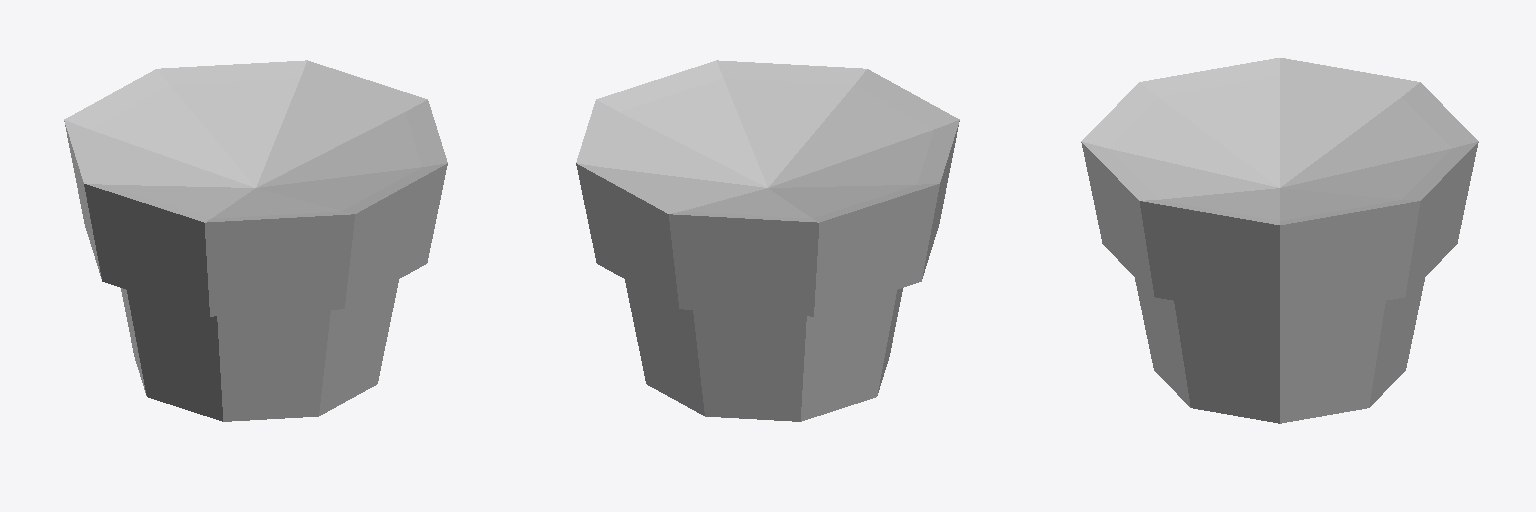
The model's file is Pot.obj.
3 renders of one model, left to right at view 1: azimuth 30°, elevation 25°; view 2: azimuth 150°, elevation 25°; view 3: azimuth 270°, elevation 25°, orthographic.
Bounding box in the file's own units: 0.9432 × 0.5996 × 0.9432.